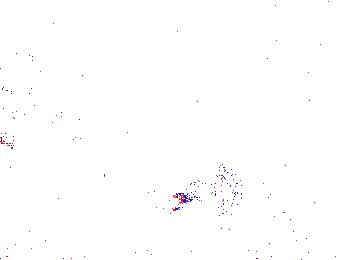flame jellyfish: (1, 51, 46, 149), (269, 173, 346, 227), (172, 165, 246, 220)
